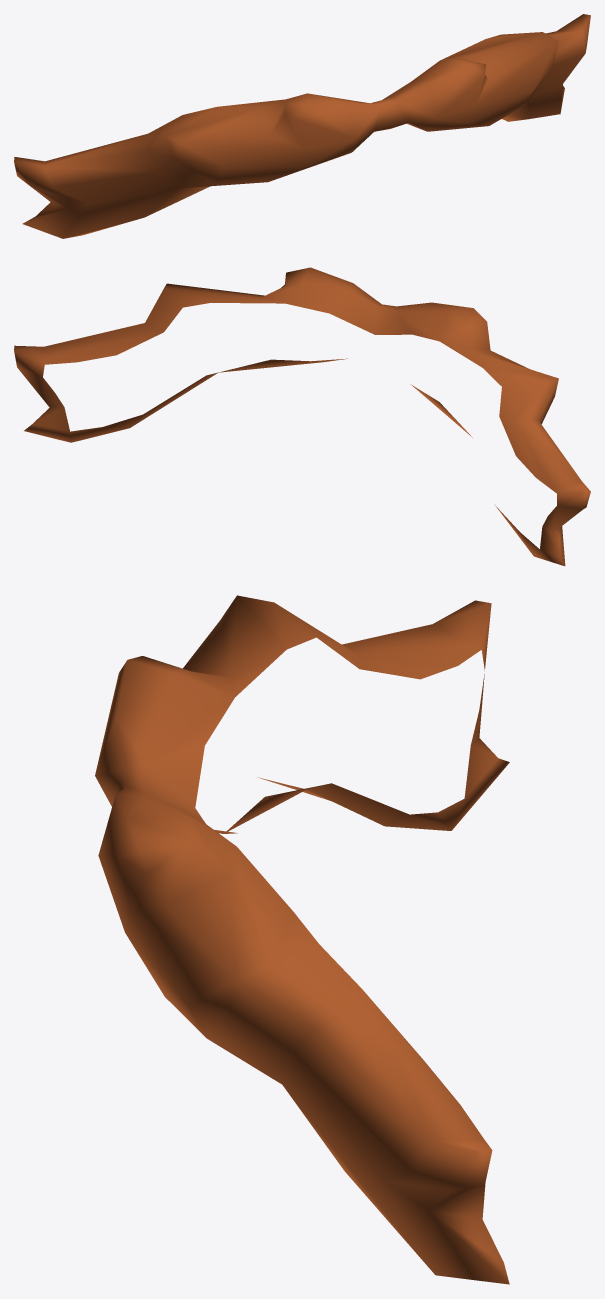
The picture shows the model from 3 angles, top to bottom: view 1: azimuth 30°, elevation 25°; view 2: azimuth 150°, elevation 25°; view 3: azimuth 270°, elevation 25°; orthographic projection. The views are drawn at different scales.
Parts seen in each view (by area): view 1: Wolf3D_Beard.126; view 2: Wolf3D_Beard.126; view 3: Wolf3D_Beard.126.
Part boxes in pixels (bbox=[...]): Wolf3D_Beard.126: bbox=[14, 14, 590, 238]; Wolf3D_Beard.126: bbox=[14, 267, 590, 566]; Wolf3D_Beard.126: bbox=[95, 595, 509, 1284].
Size of the model in its own units: 0.1075 by 0.0277 by 0.0335.
Materials: 1 (1 with a texture image).
